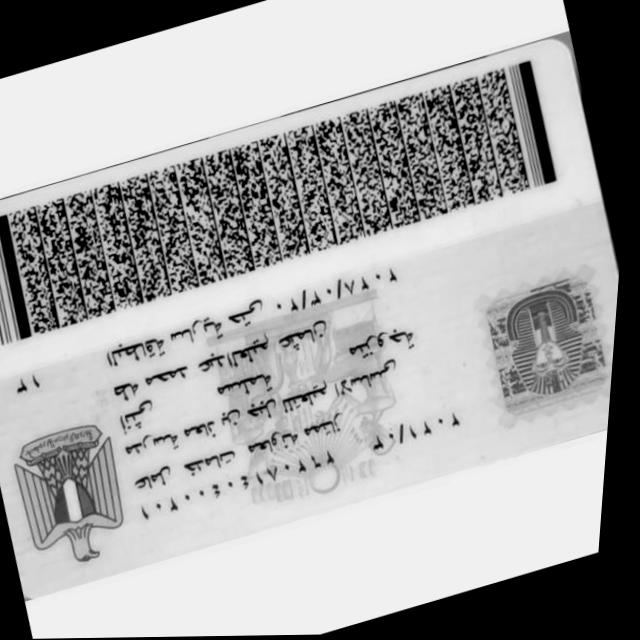back: (0, 40, 619, 596)
